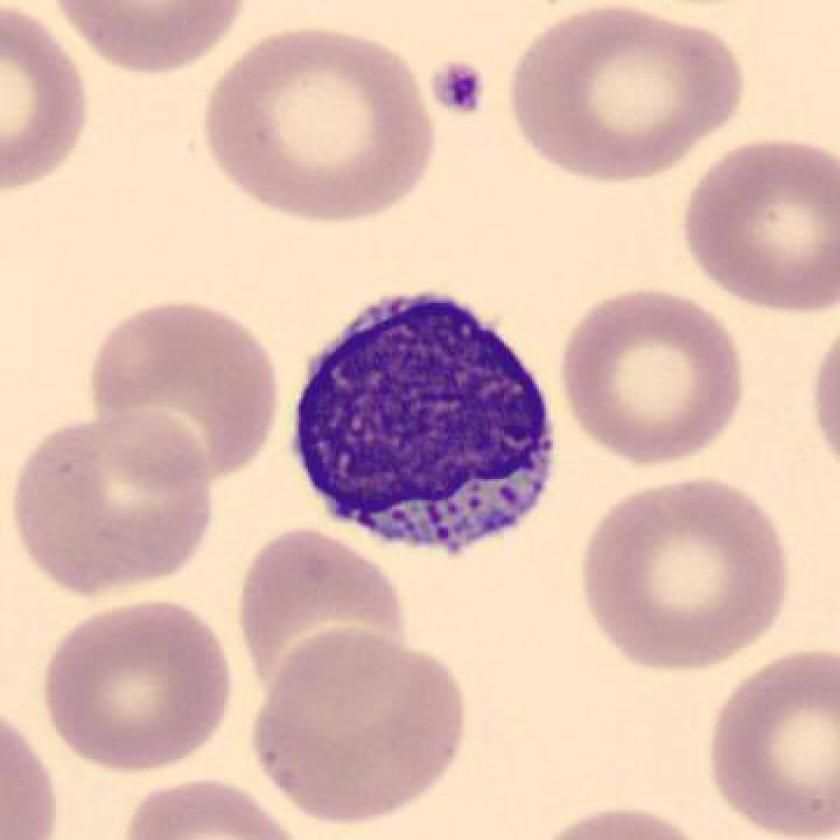lymphocyte: (279, 274, 573, 573)
